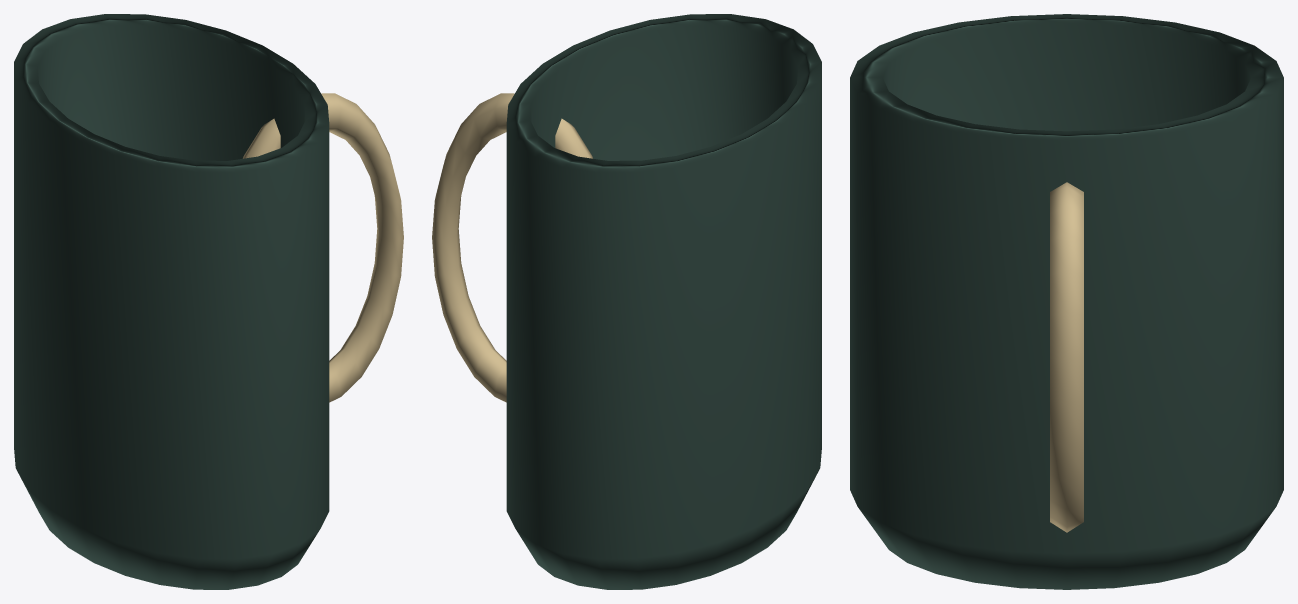
The picture shows the model from 3 angles, left to right: view 1: azimuth 30°, elevation 25°; view 2: azimuth 150°, elevation 25°; view 3: azimuth 270°, elevation 25°; orthographic projection. The views are drawn at different scales.
Visible parts, largest first — view 1: d-cup; view 2: d-cup; view 3: d-cup.
Boxes of the visible parts, box(x1,y1,x2,y2) form: d-cup: box(14, 14, 403, 589); d-cup: box(432, 14, 821, 589); d-cup: box(850, 14, 1283, 589).
Bounding box in the file's own units: 0.12 × 0.14 × 0.12.
